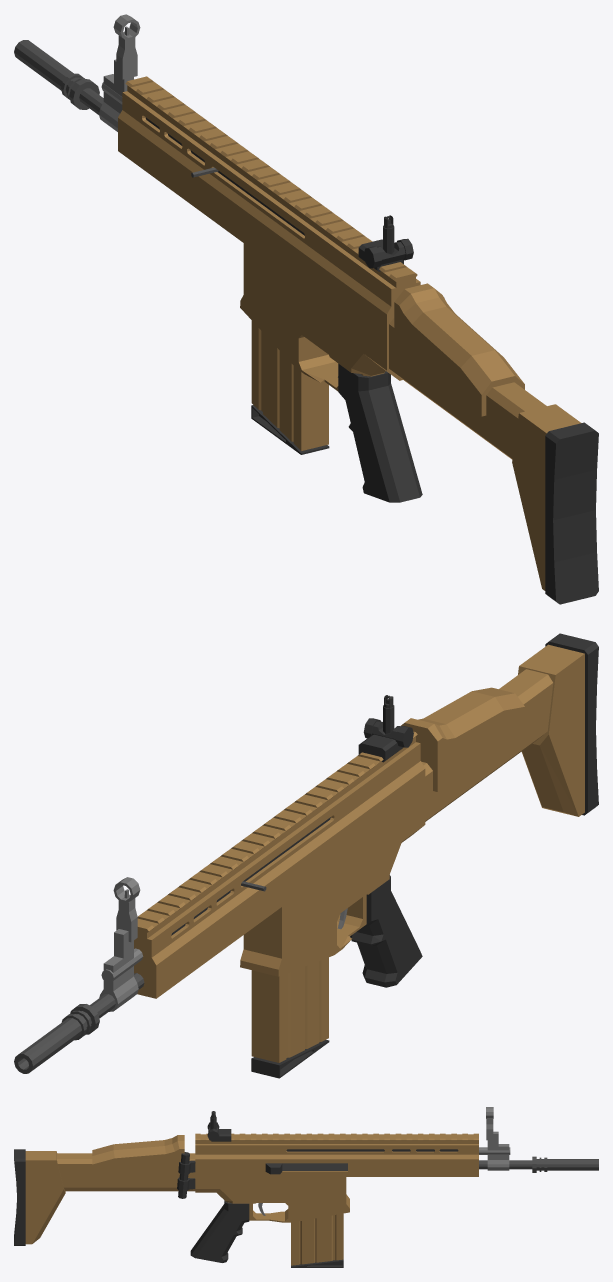
Rendered from SCAR_H.fbx.
The picture shows the model from 3 angles, top to bottom: view 1: azimuth 30°, elevation 25°; view 2: azimuth 150°, elevation 25°; view 3: azimuth 270°, elevation 25°; orthographic projection. The views are drawn at different scales.
Parts seen in each view (by area): view 1: Scar_H, Magazin, Rear_sight; view 2: Scar_H, Magazin, Rear_sight; view 3: Scar_H, Magazin, Bolt, Rear_sight.
Part boxes in pixels (x1,y1,x2,y2): Scar_H: (14, 14, 598, 604); Magazin: (251, 320, 329, 454); Rear_sight: (358, 215, 413, 271); Scar_H: (14, 633, 598, 1073); Magazin: (251, 957, 329, 1078); Rear_sight: (358, 695, 413, 762); Scar_H: (14, 1107, 598, 1262); Magazin: (291, 1213, 343, 1267); Bolt: (282, 1163, 347, 1170); Rear_sight: (207, 1111, 231, 1141).
Bounding box in the file's own units: 55.46 × 227 × 771.
1 material, 1 textured.
